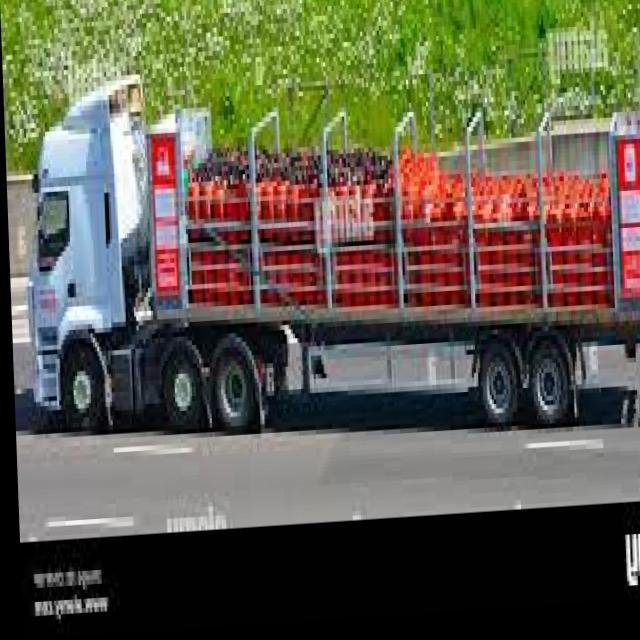uncovered: (19, 46, 640, 450)
